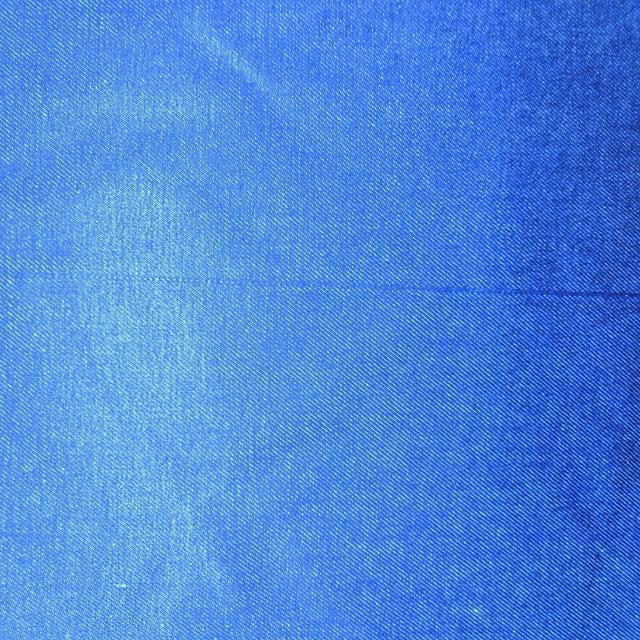Line: (0, 266, 640, 299)
